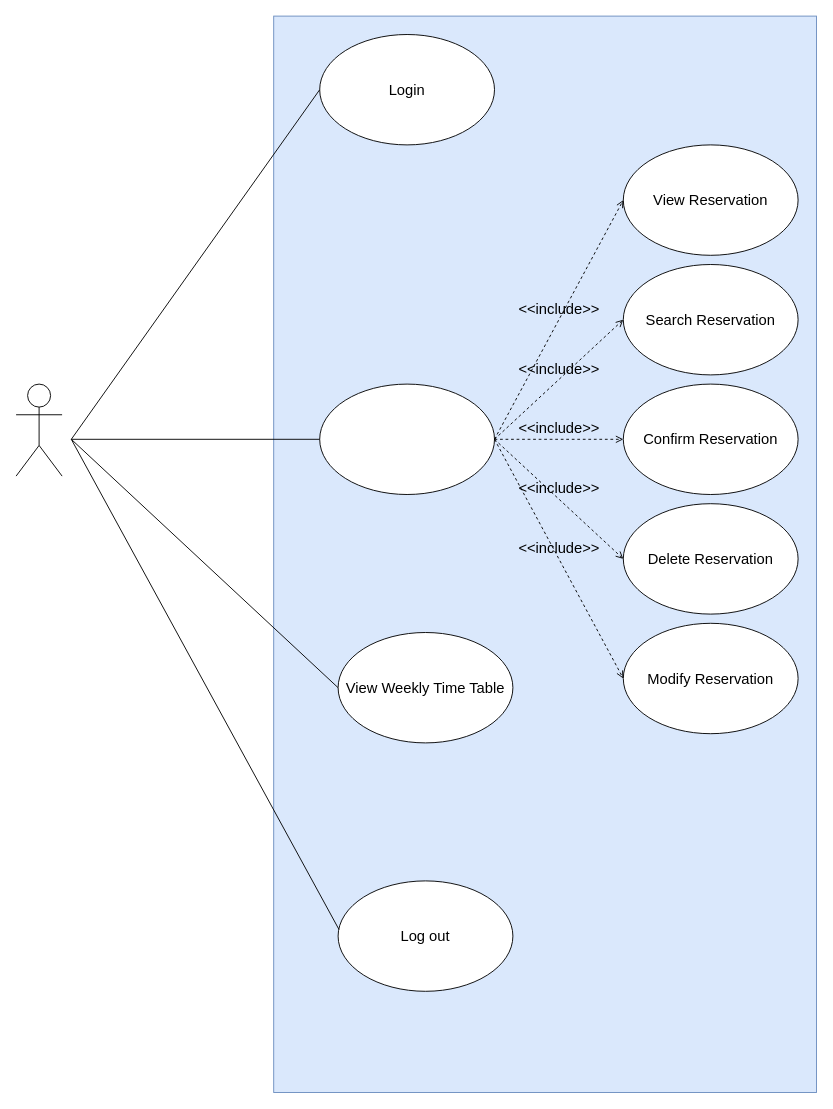
Image size: 833x1109. Some labels were removed from this diagram. The shapes that lost their labels are listed below. From the top down, each one's centre as x and y in pixels, then its label:
At point (38, 429): "Stafff".
At point (406, 438): "Manage Reservation".
